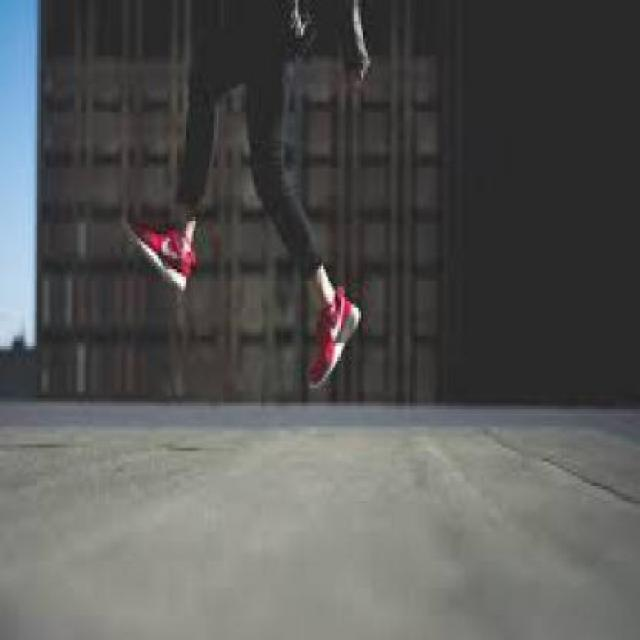Nike: (149, 224, 182, 260), (324, 293, 347, 339)
